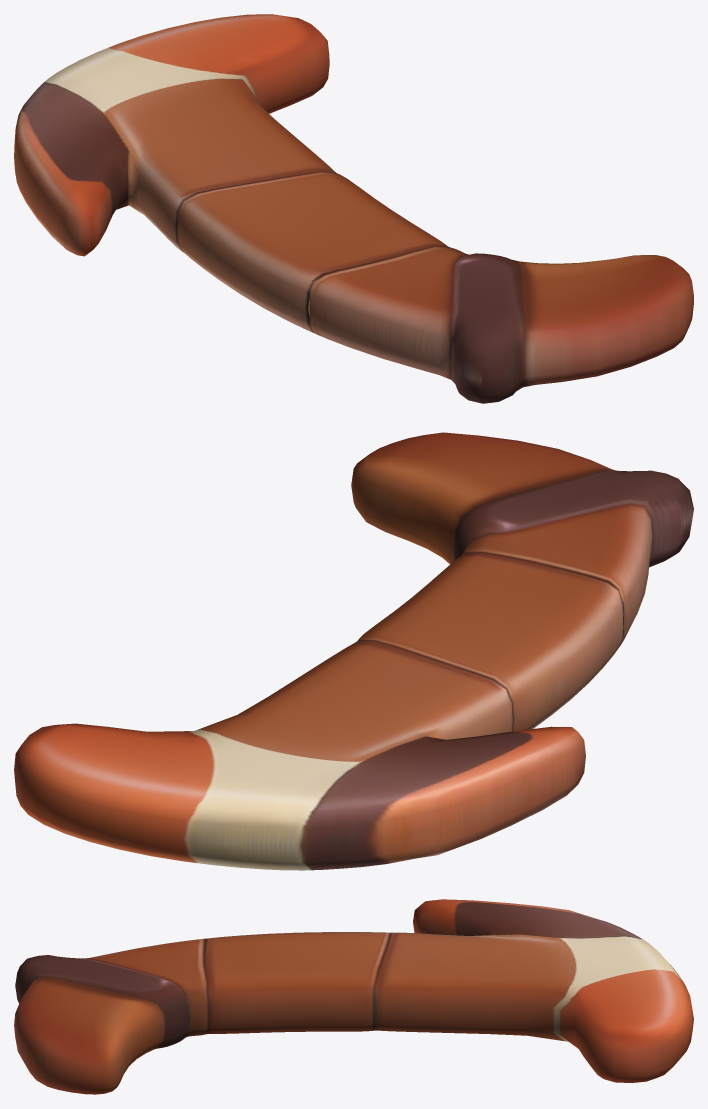
File: boomerang.fbx
3 views of the same model, one above another, from view 1: azimuth 30°, elevation 25°; view 2: azimuth 150°, elevation 25°; view 3: azimuth 270°, elevation 25° (orthographic). The views are drawn at different scales.
Visible parts, largest first — view 1: boomerang; view 2: boomerang; view 3: boomerang.
Part boxes in pixels (x1=…): boomerang: x1=14, y1=14, x2=693, y2=403; boomerang: x1=14, y1=432, x2=693, y2=870; boomerang: x1=14, y1=899, x2=693, y2=1094.
Size of the model in its own units: 263 by 43.13 by 470.
1 material, 1 textured.
